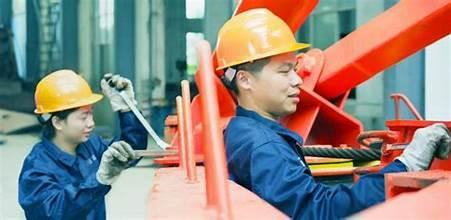Gloves: (394, 122, 450, 172), (95, 140, 135, 185), (100, 72, 137, 112)
Helmet: (213, 7, 311, 72), (33, 68, 103, 115)
Person: (213, 8, 450, 219), (17, 68, 148, 219)
no-vest: (222, 115, 395, 220), (16, 132, 118, 220)
